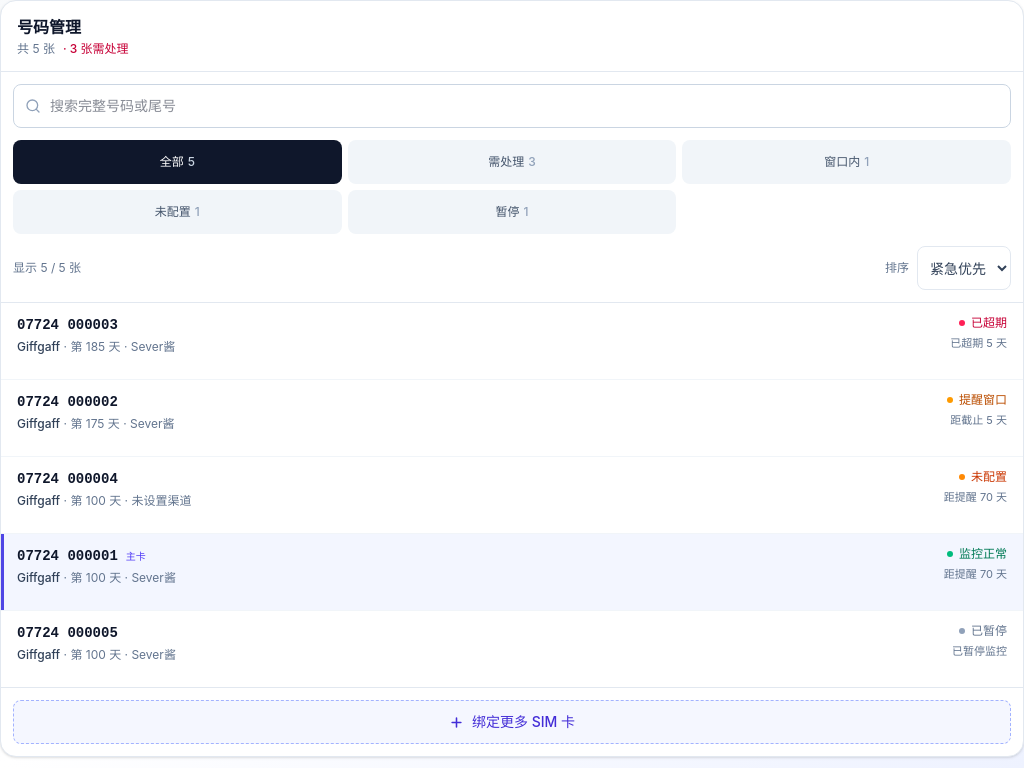
Scenario: <SimManager /> › 需处理筛选排除正常和暂停号码
What coordinates should you click on to do the following:
click the button "需处理 3"
I would click on:
 (512, 162)
Its box is left=348, top=140, right=676, bottom=184.
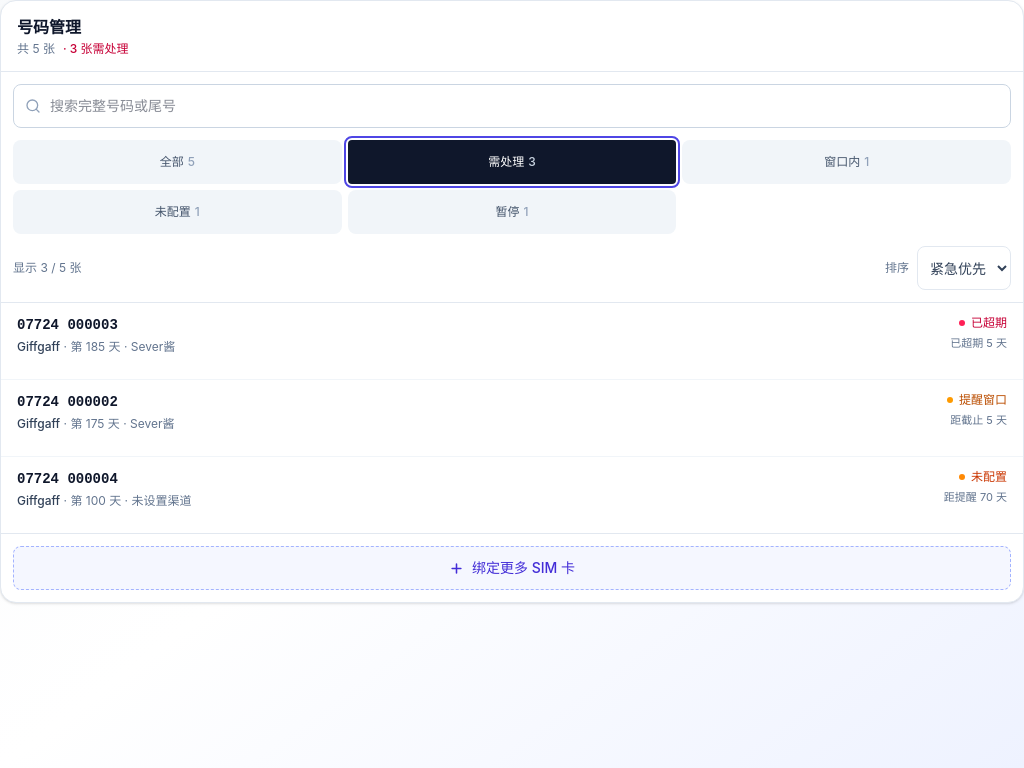
Check: the text "显示 3 / 5 张" is shown, box left=13, top=260, right=81, bottom=276
